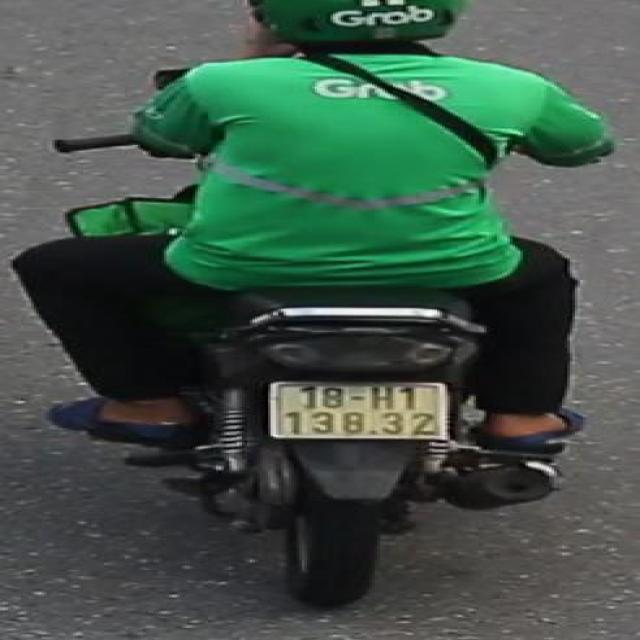LP: (258, 374, 463, 444)
helmet: (228, 0, 506, 68)
